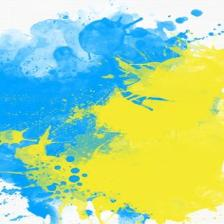yellow: (16, 46, 224, 223)
